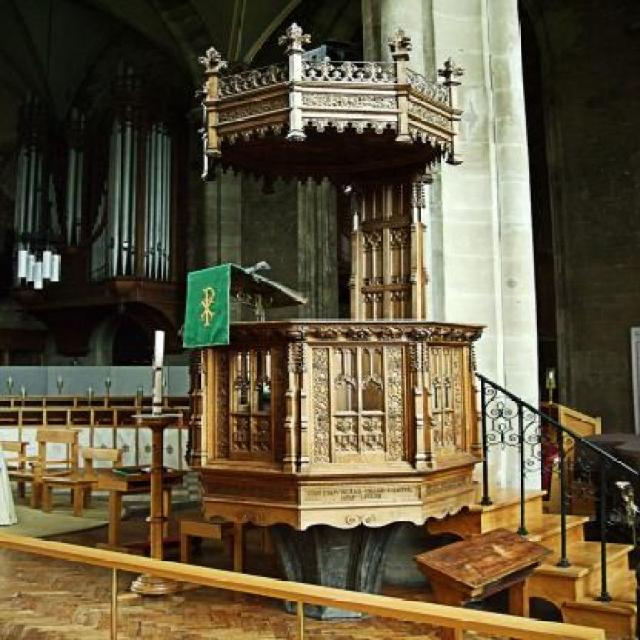stair: (460, 486, 640, 640)
